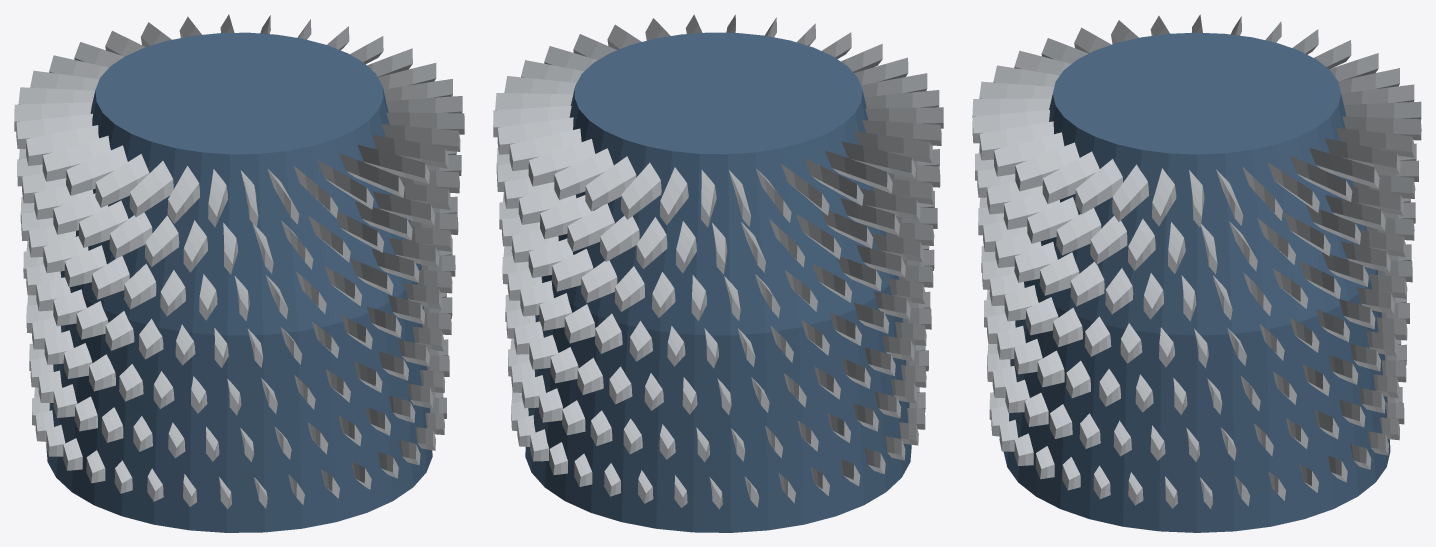
File: comprotor_basic.glb
3 views of the same model, side by side, from view 1: azimuth 30°, elevation 25°; view 2: azimuth 150°, elevation 25°; view 3: azimuth 270°, elevation 25° (orthographic).
Visible parts, largest first — view 1: comprotor_basic; view 2: comprotor_basic; view 3: comprotor_basic.
Part boxes in pixels (x1,y1,x2,y2): comprotor_basic: (14,14,464,532); comprotor_basic: (493,14,943,532); comprotor_basic: (972,14,1421,532).
Bounding box in the file's own units: 0.2372 × 0.232 × 0.2367.
